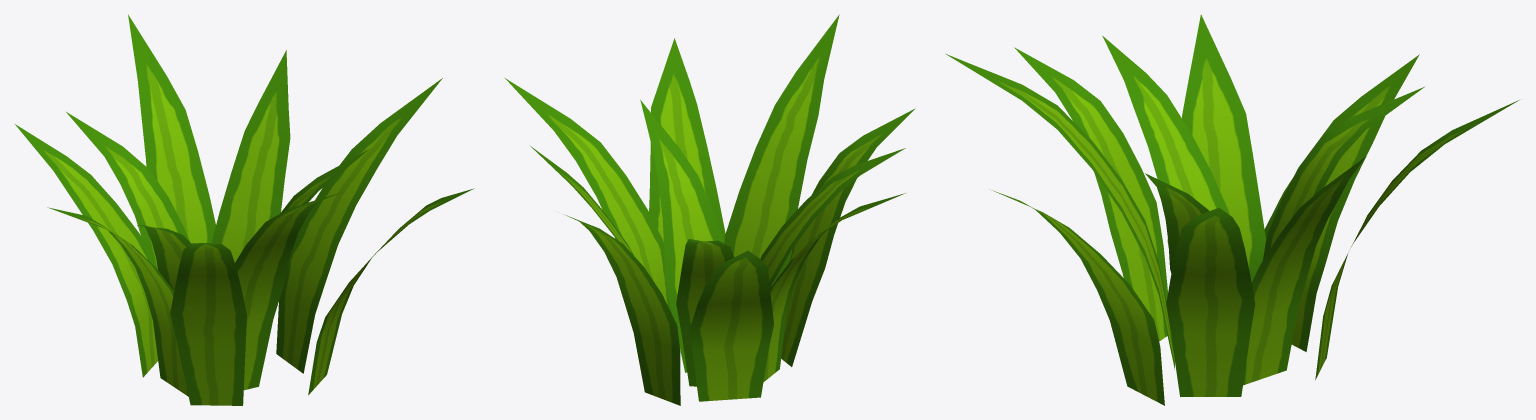
File: Grass.fbx
The picture shows the model from 3 angles, left to right: view 1: azimuth 30°, elevation 25°; view 2: azimuth 150°, elevation 25°; view 3: azimuth 270°, elevation 25°; orthographic projection. The views are drawn at different scales.
Visible parts, largest first — view 1: Grass_LOD0; view 2: Grass_LOD0; view 3: Grass_LOD0.
Part boxes in pixels (x1,y1,x2,y2): Grass_LOD0: (15, 14, 473, 405); Grass_LOD0: (505, 14, 915, 405); Grass_LOD0: (945, 14, 1519, 405).
Size of what is drawn, in the model's own units: 117 by 75.63 by 128.
1 material, 1 textured.
